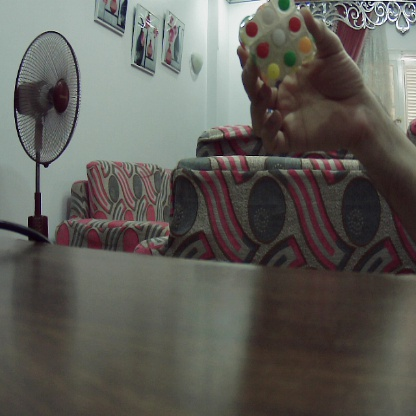Rubix Cube: (243, 2, 317, 79)
